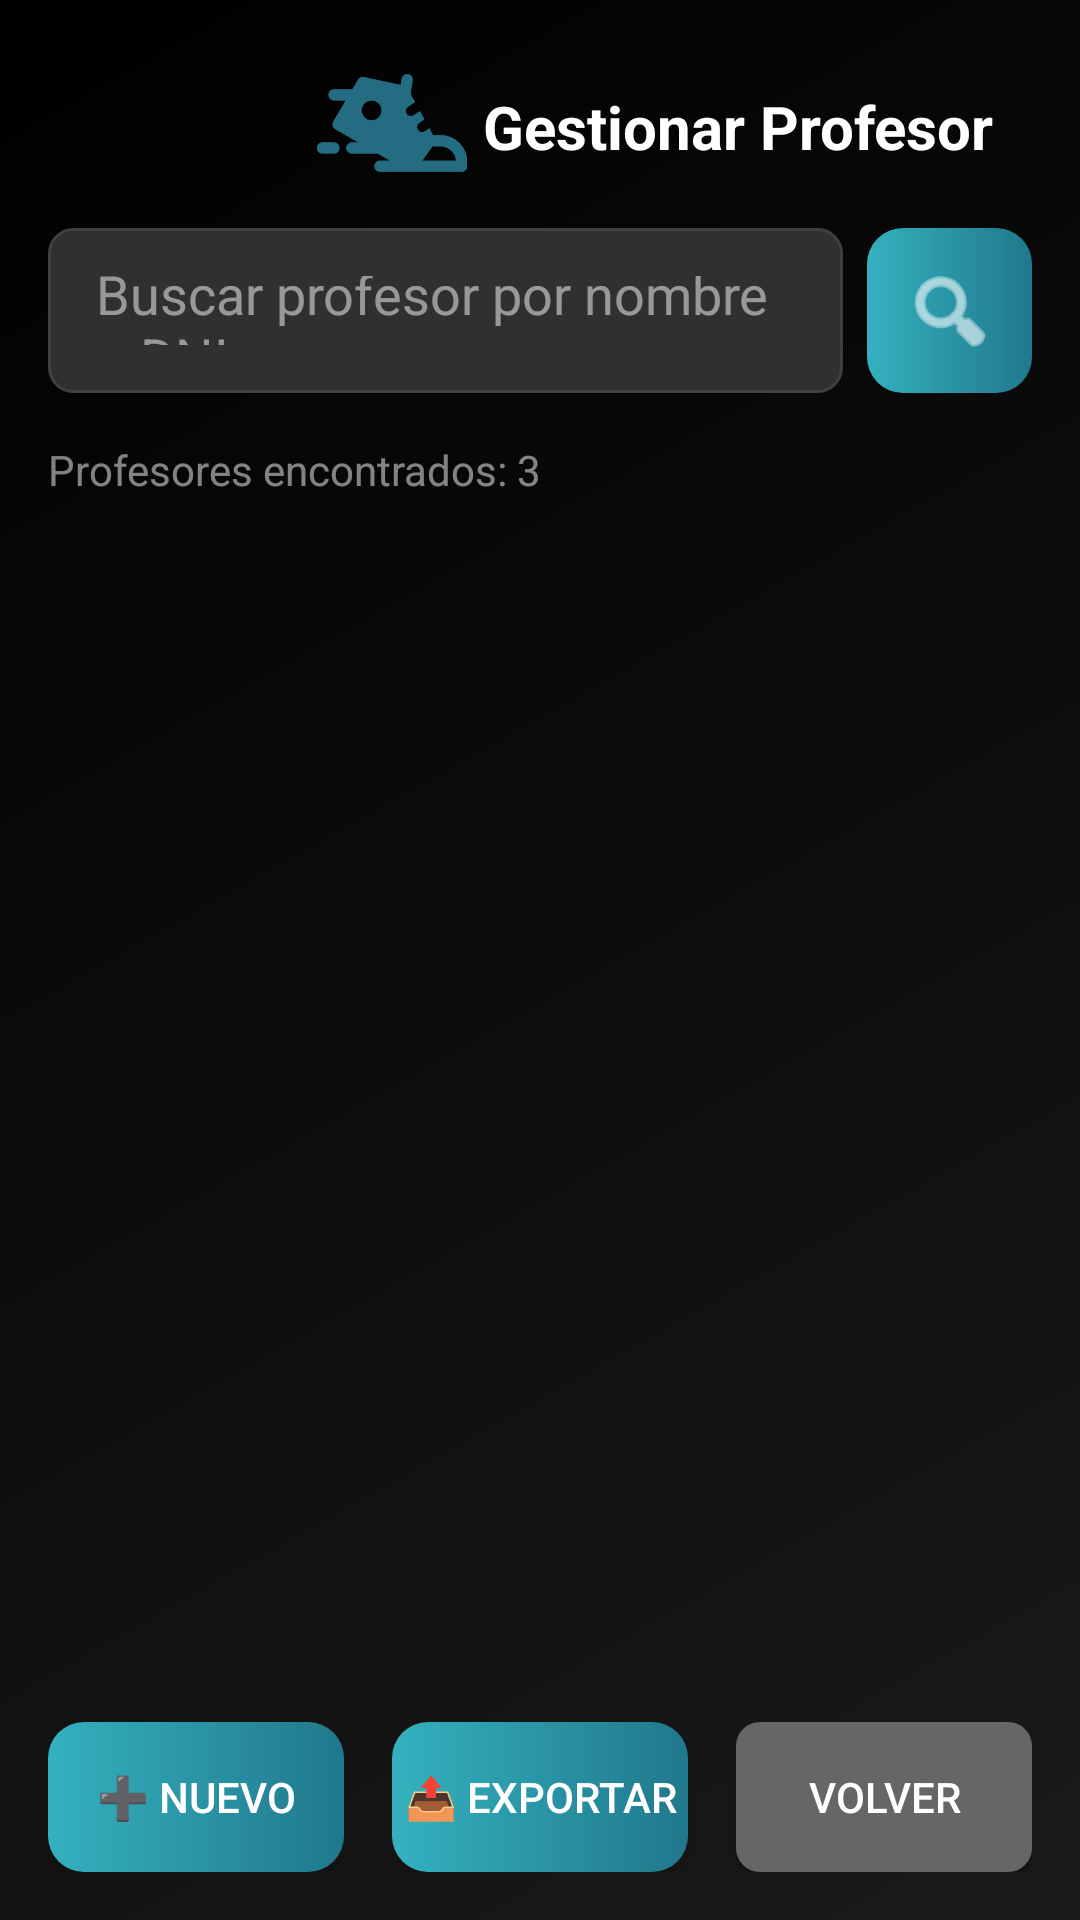

Icon click points for this 1080*1920 phone screenshot, format (x=x, y=y):
search: (x=949, y=310)
